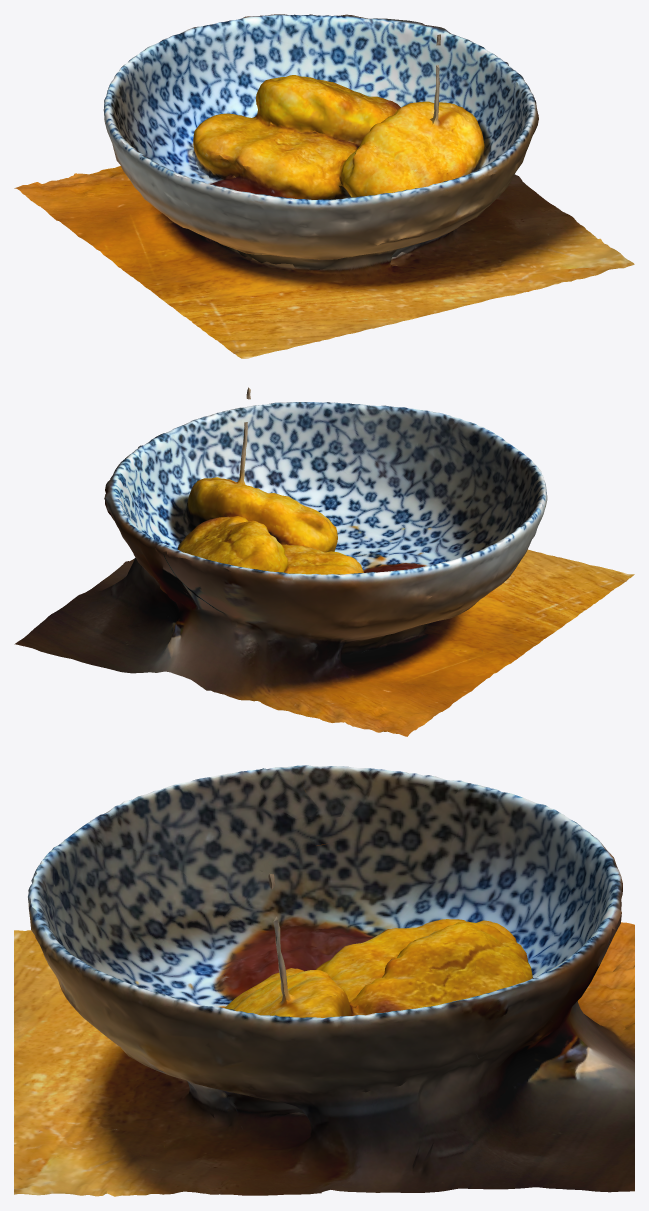
The model's file is chicken_nugget.glb.
3 views of the same model, one above another, from view 1: azimuth 30°, elevation 25°; view 2: azimuth 150°, elevation 25°; view 3: azimuth 270°, elevation 25° (orthographic). The views are drawn at different scales.
Visible parts, largest first — view 1: Object_2; view 2: Object_2; view 3: Object_2.
Boxes of the visible parts, bbox=[...] form: Object_2: bbox=[14, 14, 634, 358]; Object_2: bbox=[14, 387, 634, 736]; Object_2: bbox=[14, 765, 634, 1196].
Bounding box in the file's own units: 0.8335 × 0.3819 × 0.8352.
1 material, 1 textured.
